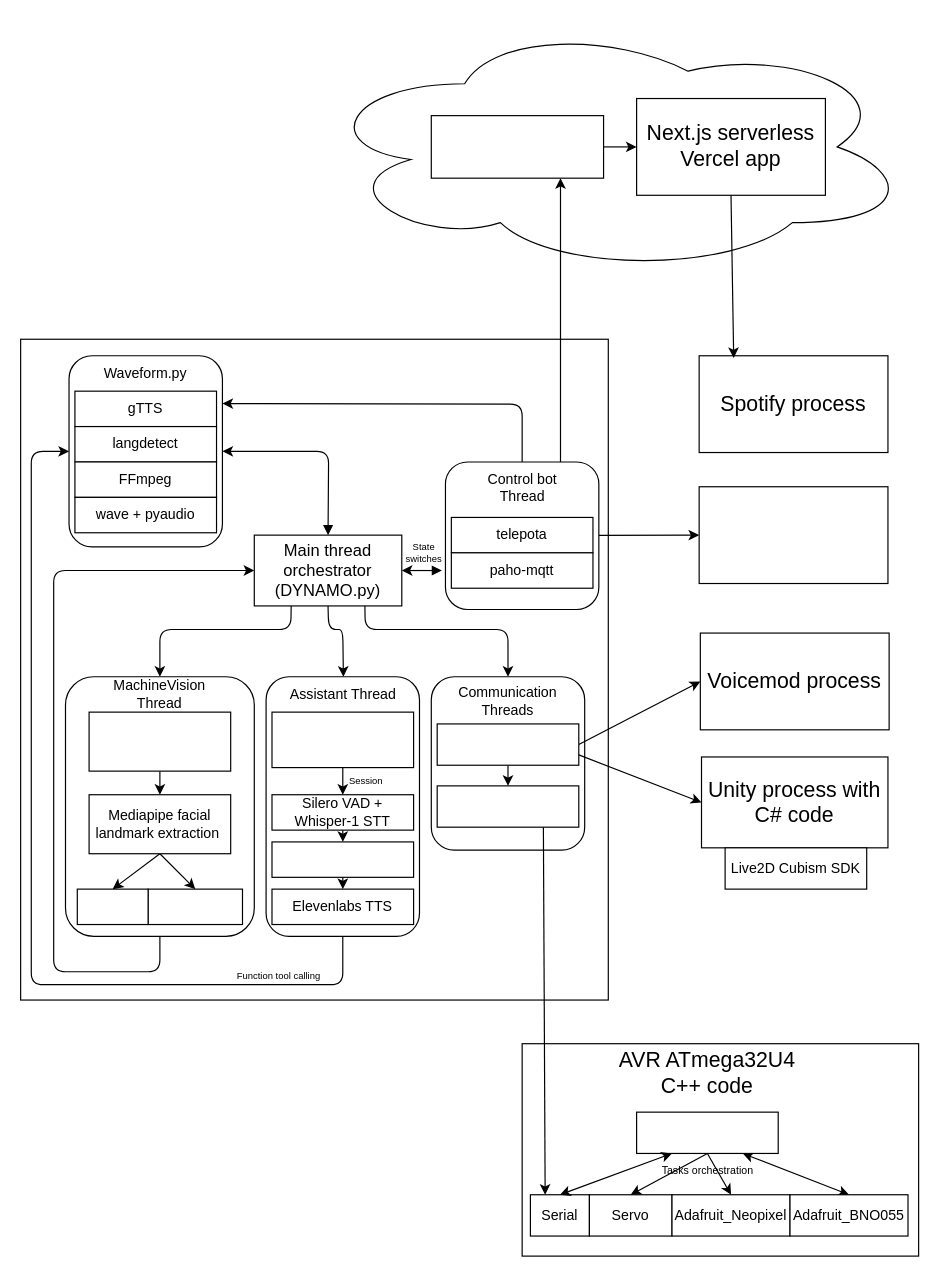
The diagram is 939 pixels wide and 1277 high, and some of its shapes have lost their labels. The shapes that lost their labels are listed below. From the top down, each one's centre as x and y in pixels, then its label:
the point at 517,146: HiveMQ Broker
the point at 793,535: AnyDesk process
the point at 159,741: OpenCV continuous frame capture
the point at 342,739: LiveKit Agent framework
the point at 507,744: Websocket
the point at 507,806: PySerial
the point at 342,859: LLM layer
the point at 112,906: Eye tracking model
the point at 194,906: Facial expression model
the point at 706,1132: Arduino_FreeRTOS
